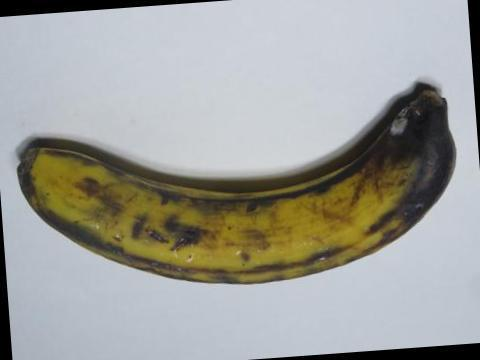overripe: (5, 75, 479, 321)
rotten: (357, 83, 463, 262)
